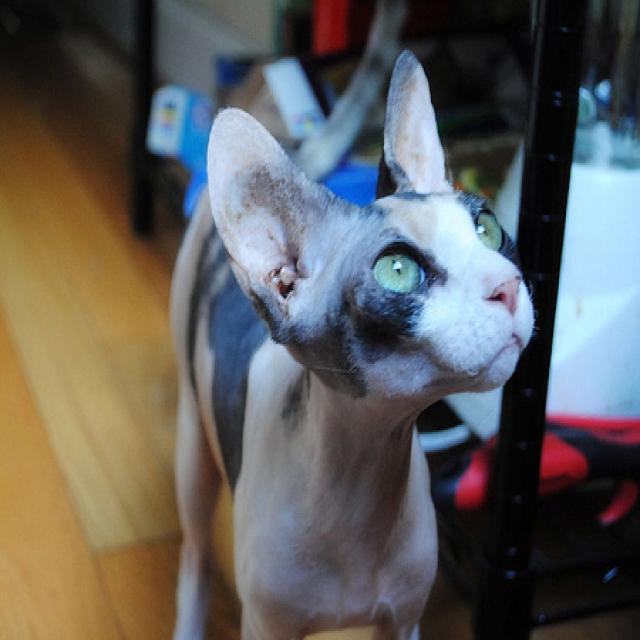Sphynx: (158, 45, 537, 640)
